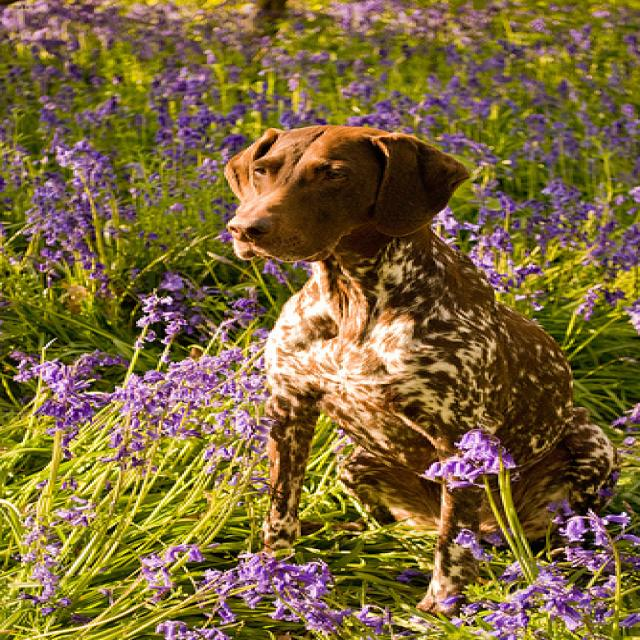dog-german_shorthaired: (209, 115, 632, 636)
